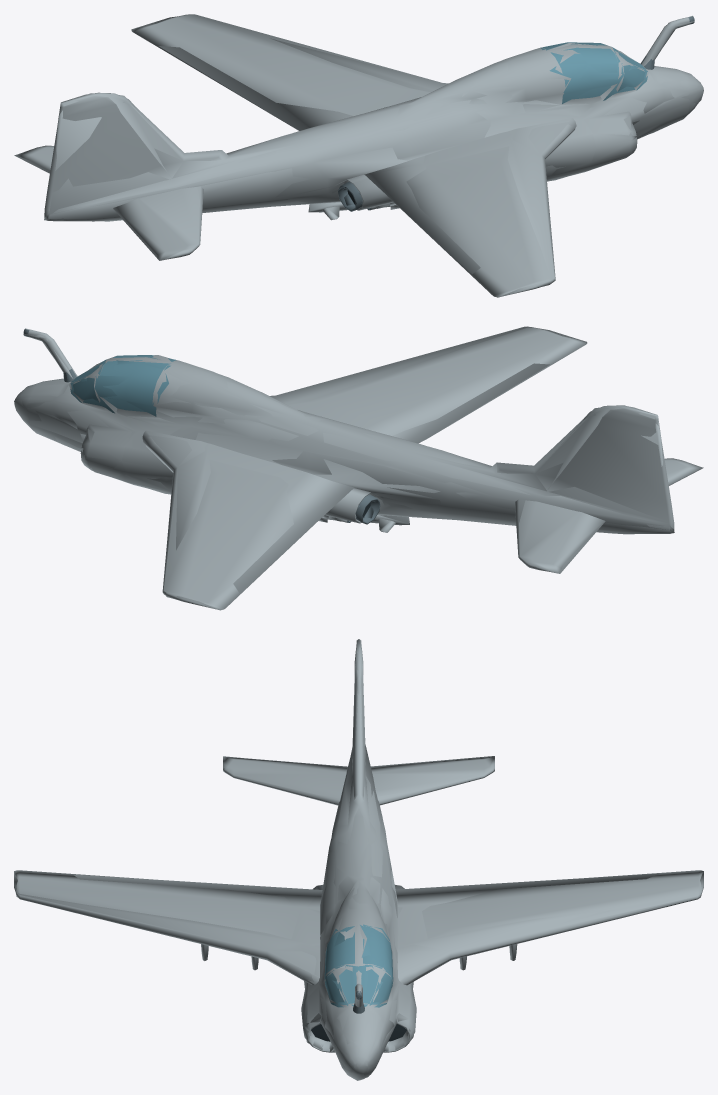
Rendered from navalStrike_nato.glb.
The picture shows the model from 3 angles, top to bottom: view 1: azimuth 30°, elevation 25°; view 2: azimuth 150°, elevation 25°; view 3: azimuth 270°, elevation 25°; orthographic projection. The views are drawn at different scales.
Visible parts, largest first — view 1: a6e_intruder.005, a6e_intruder.008, a6e_intruder.001, a6e_intruder.004, a6e_intruder.007, a6e_intruder.003; view 2: a6e_intruder.005, a6e_intruder.008, a6e_intruder.001, a6e_intruder.004, a6e_intruder.007, a6e_intruder.003; view 3: a6e_intruder.005, a6e_intruder.008, a6e_intruder.001, a6e_intruder.004.
Part boxes in pixels (box(x1,y1,x2,y2)): a6e_intruder.005: box(16, 14, 703, 297); a6e_intruder.008: box(14, 15, 703, 297); a6e_intruder.001: box(542, 42, 645, 99); a6e_intruder.004: box(540, 43, 647, 103); a6e_intruder.007: box(338, 16, 694, 211); a6e_intruder.003: box(308, 202, 399, 220); a6e_intruder.005: box(14, 326, 702, 609); a6e_intruder.008: box(14, 326, 703, 610); a6e_intruder.001: box(72, 355, 175, 411); a6e_intruder.004: box(70, 359, 170, 416); a6e_intruder.007: box(23, 329, 380, 524); a6e_intruder.003: box(319, 515, 409, 532); a6e_intruder.005: box(14, 639, 703, 1080); a6e_intruder.008: box(14, 640, 703, 1080); a6e_intruder.001: box(325, 926, 392, 1003); a6e_intruder.004: box(324, 924, 393, 1007).
Size of the model in its own units: 9.41 by 2.52 by 9.07.
